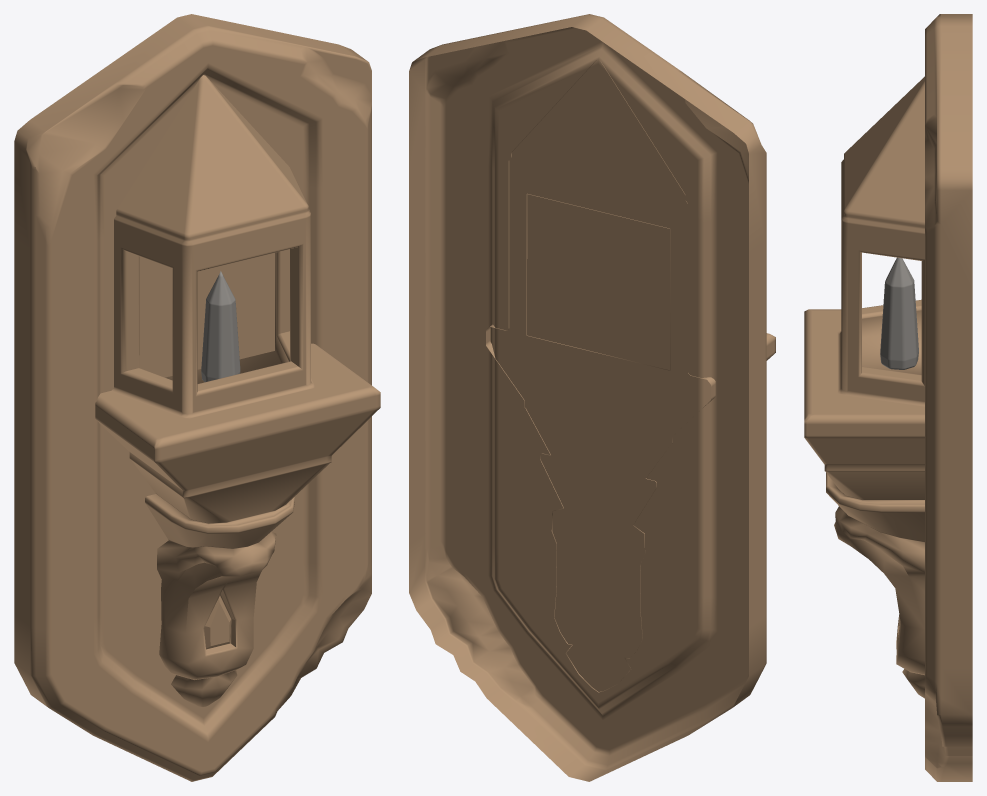
File: Lamp_Wall_Crystal_01.fbx
3 views of the same model, side by side, from view 1: azimuth 30°, elevation 25°; view 2: azimuth 150°, elevation 25°; view 3: azimuth 270°, elevation 25° (orthographic).
Visible parts, largest first — view 1: Lamp_Stone_Crystal, Crystal_Singl_01_1; view 2: Lamp_Stone_Crystal; view 3: Lamp_Stone_Crystal, Crystal_Singl_01_1.
Boxes of the visible parts, x1,y1,x2,y2 form: Lamp_Stone_Crystal: [14, 14, 380, 781]; Crystal_Singl_01_1: [201, 271, 240, 382]; Lamp_Stone_Crystal: [409, 14, 775, 781]; Lamp_Stone_Crystal: [804, 14, 972, 781]; Crystal_Singl_01_1: [880, 257, 918, 369].
Size of the model in its own units: 0.4706 by 0.9931 by 0.2013.
